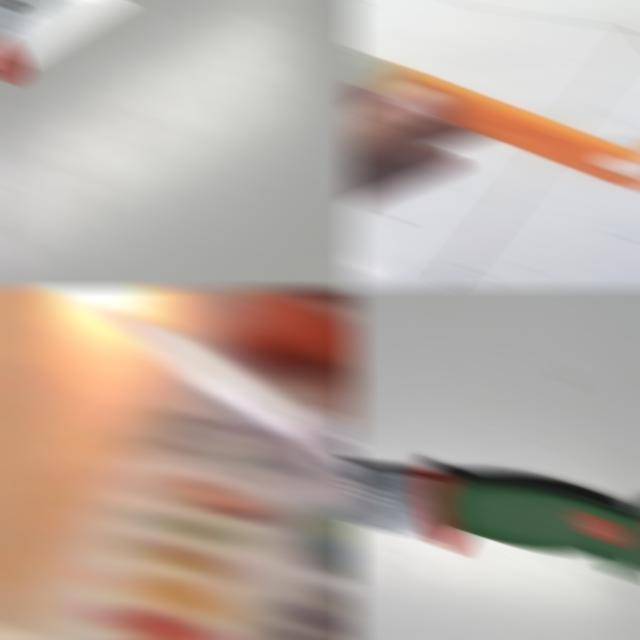Knife: (346, 45, 640, 192), (346, 459, 640, 580)
Knife_Handle: (89, 303, 358, 640)
